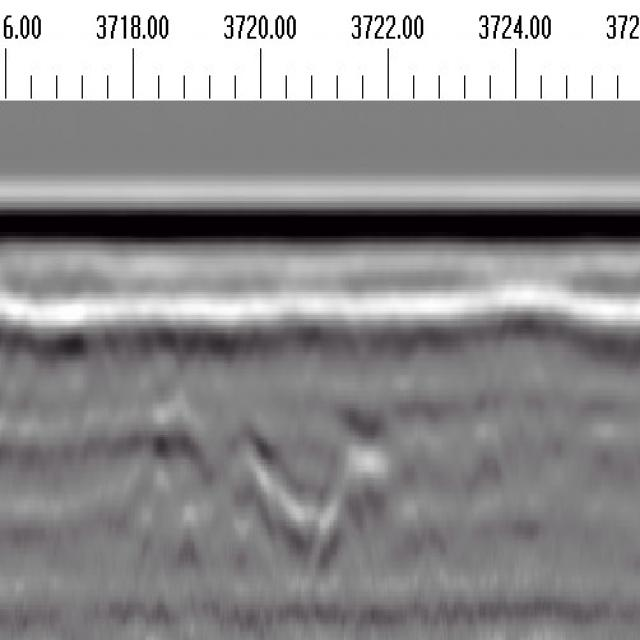loose: (131, 407, 412, 579)
